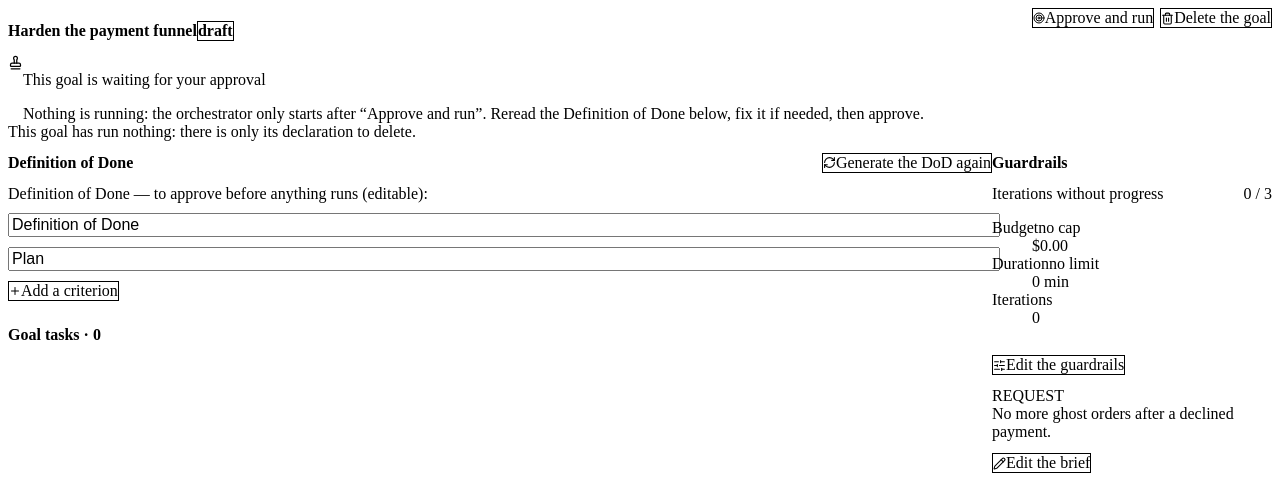
GoalPage: deleting a goal (D1-D12) › zero footprint: the D12 sentence replaces the footprint, and the armed label lists nothing
Check: the text "This goal has run nothing: there is only its declaration to delete." is shown, box [8,122,416,140]
Click the button "Delete the goal".
click(1216, 18)  # box [1160,8,1272,28]
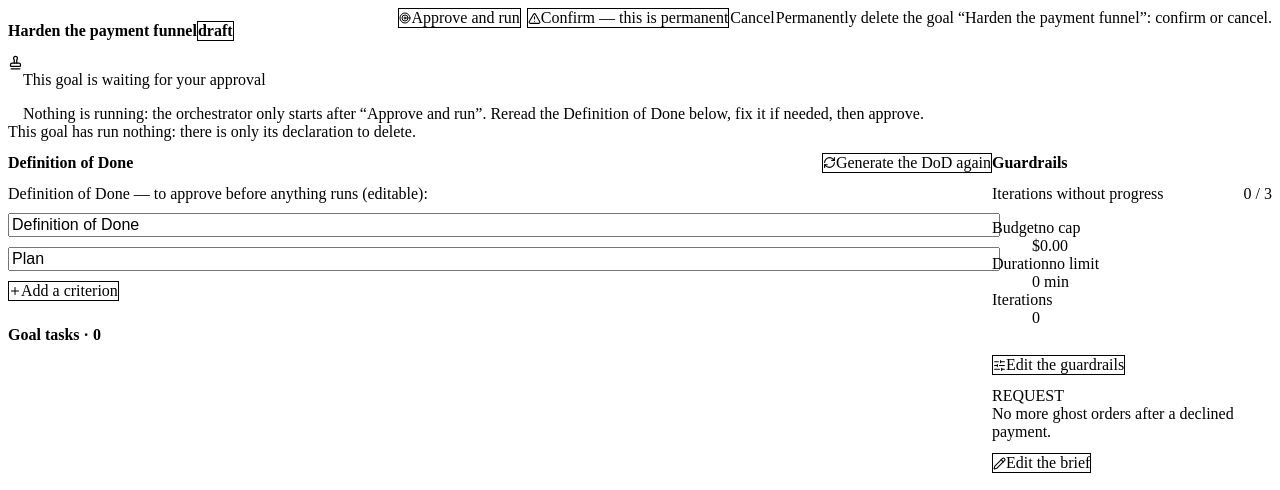
Check: the button "Confirm — this is permanent" is shown, box [527,8,729,28]
